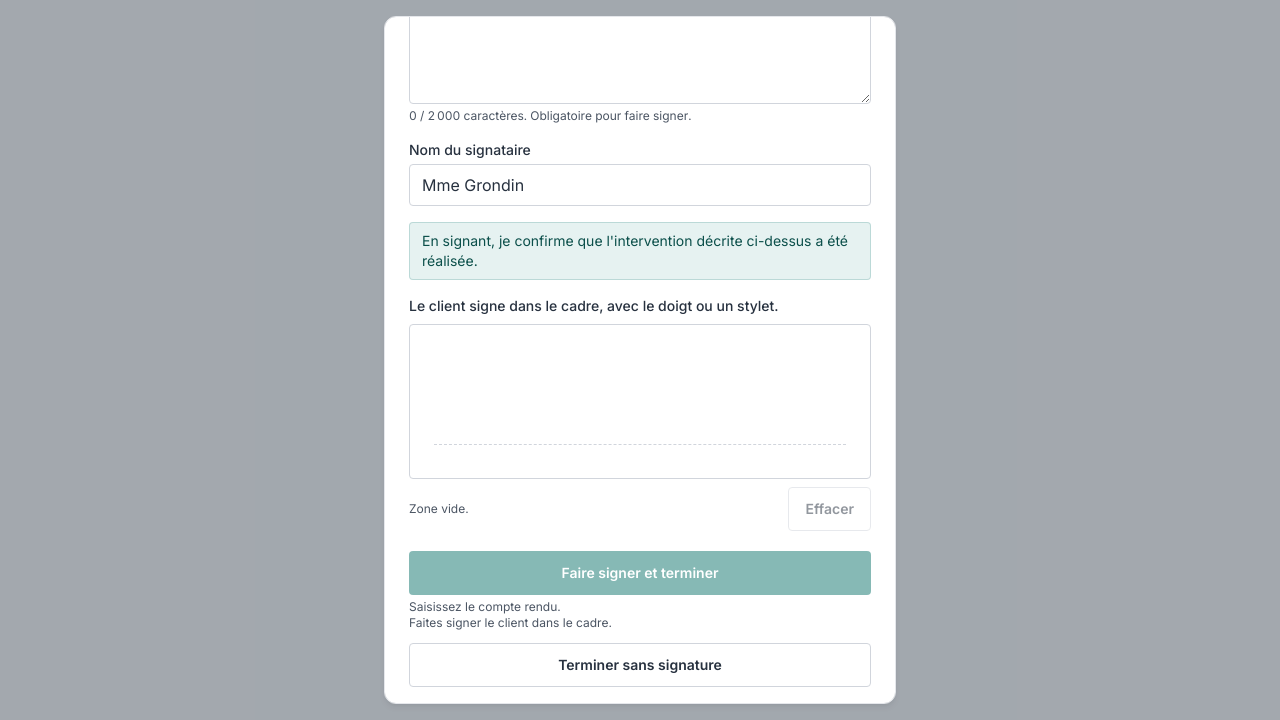
fenêtre de clôture (US17, US18, US33) › « Faire signer et terminer » bloqué, avec la raison affichée (RG31) › sans nom du signataire
(page scrolled)
Press the mouse on the picture named "Zone de signature du client": [640, 402] box [410,325,870,478]
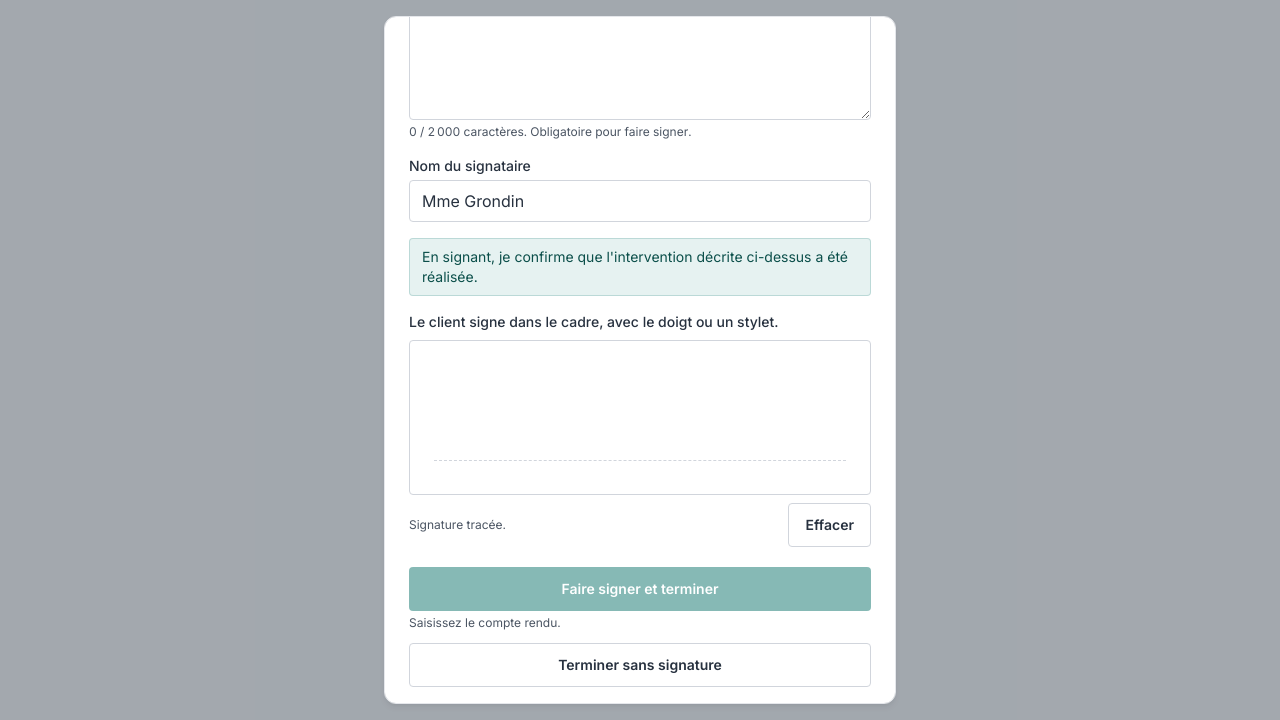
In the text box labelled "Compte rendu": [640, 63] box [409,6,871,120], type "Joint changé"
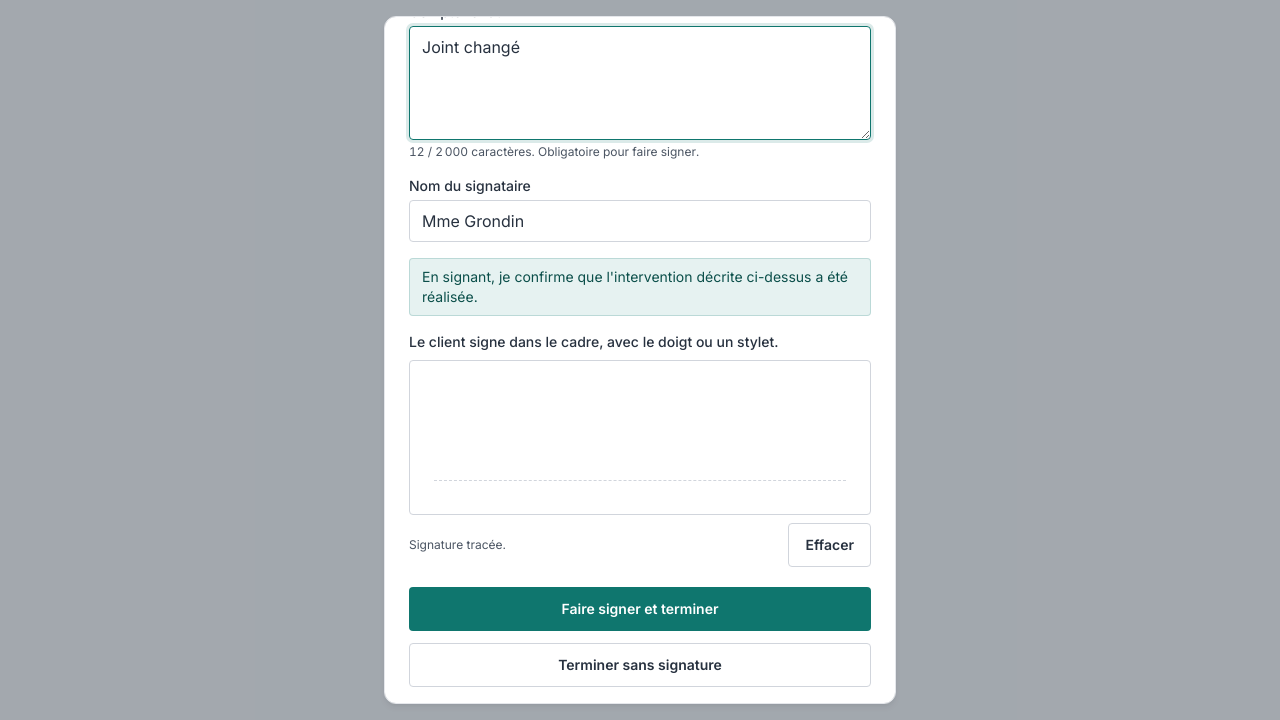
Clear the field labelled "Nom du signataire": [640, 221] box [409,200,871,242]
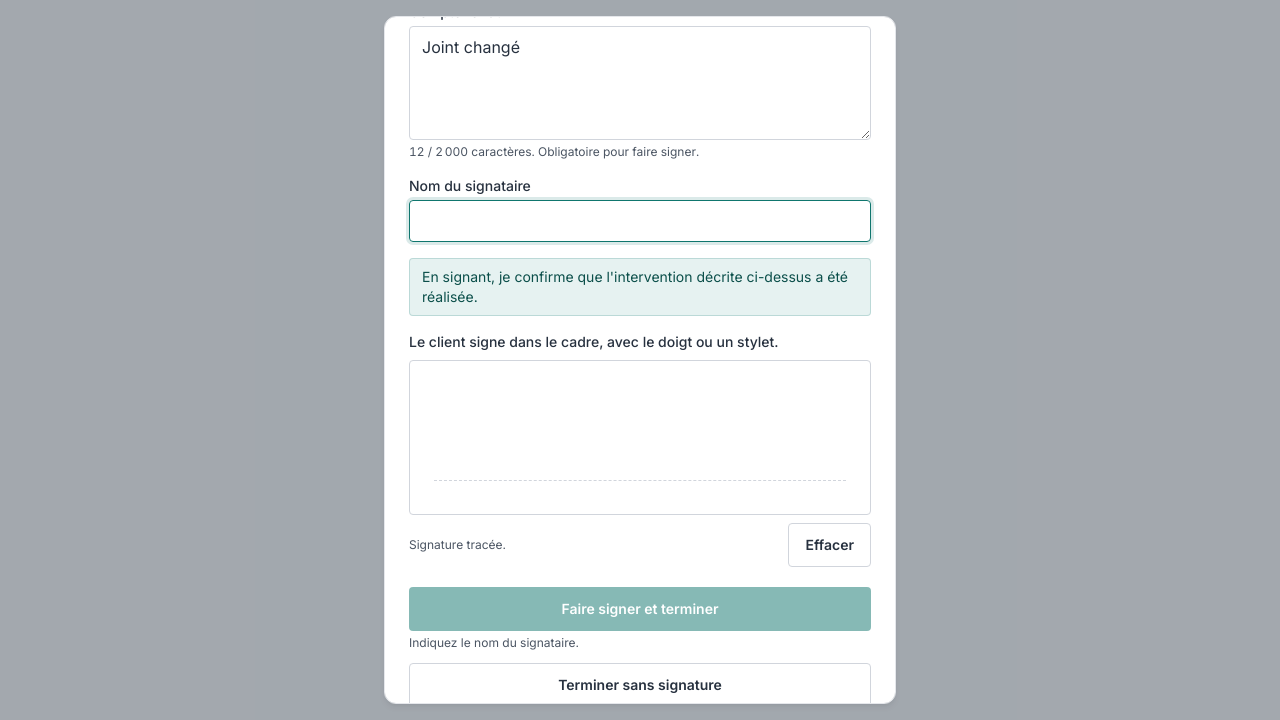
Result: the button "Faire signer et terminer" is disabled at [409,587,871,631]
